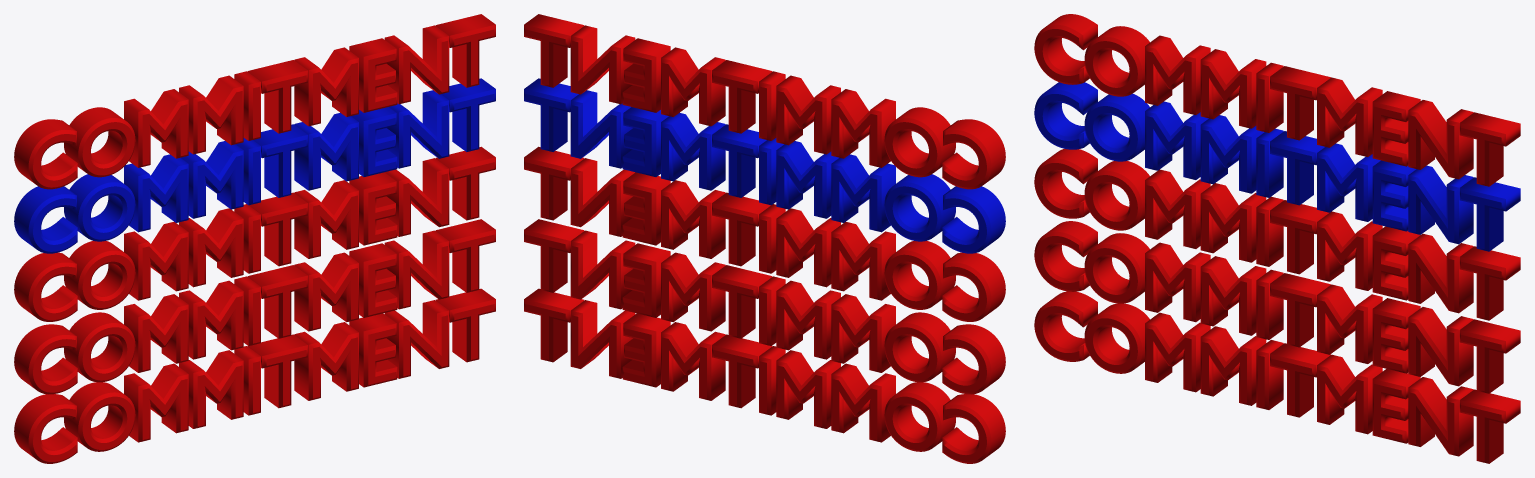
Rendered from COMMITMENT obstacle.fbx.
3 views of the same model, side by side, from view 1: azimuth 30°, elevation 25°; view 2: azimuth 150°, elevation 25°; view 3: azimuth 330°, elevation 25° (orthographic).
Parts seen in each view (by area): view 1: Text.001, Text.005, Text, Text.002, Text.004; view 2: Text.001, Text.005, Text, Text.002, Text.004; view 3: Text.005, Text.001, Text, Text.002, Text.004.
Boxes of the visible parts, left/top/right/bottom form: Text.001: left=14, top=219, right=495, bottom=394; Text.005: left=14, top=14, right=495, bottom=189; Text: left=14, top=288, right=495, bottom=463; Text.002: left=14, top=146, right=495, bottom=321; Text.004: left=14, top=78, right=495, bottom=253; Text.001: left=524, top=219, right=1005, bottom=394; Text.005: left=524, top=14, right=1005, bottom=189; Text: left=524, top=288, right=1005, bottom=463; Text.002: left=524, top=146, right=1005, bottom=321; Text.004: left=524, top=78, right=1005, bottom=253; Text.005: left=1034, top=14, right=1520, bottom=186; Text.001: left=1034, top=221, right=1520, bottom=393; Text: left=1034, top=291, right=1520, bottom=463; Text.002: left=1034, top=149, right=1520, bottom=320; Text.004: left=1034, top=82, right=1520, bottom=251.
Size of the model in its own units: 663 by 450 by 43.4.
